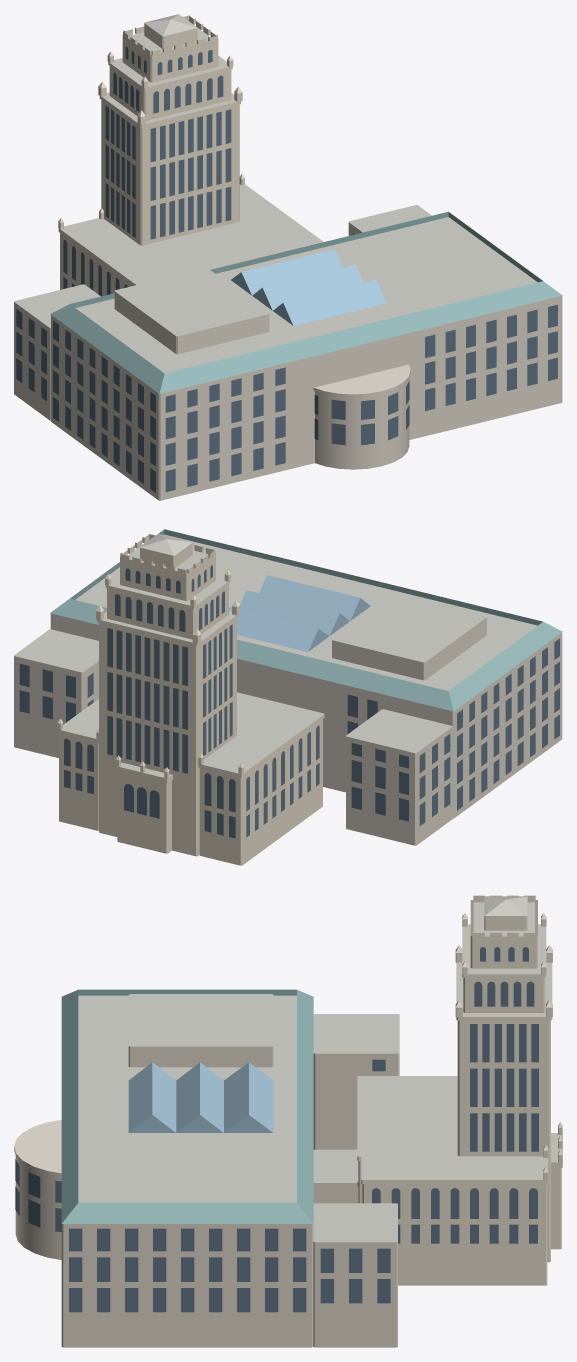
Rendered from atl-city-hall.glb.
The picture shows the model from 3 angles, top to bottom: view 1: azimuth 30°, elevation 25°; view 2: azimuth 150°, elevation 25°; view 3: azimuth 270°, elevation 25°; orthographic projection. The views are drawn at different scales.
Visible parts, largest first — view 1: Atlanta City Hall; view 2: Atlanta City Hall; view 3: Atlanta City Hall.
Boxes of the visible parts, left/top/right/bottom form: Atlanta City Hall: left=14, top=14, right=562, bottom=500; Atlanta City Hall: left=14, top=529, right=562, bottom=865; Atlanta City Hall: left=14, top=895, right=562, bottom=1347.
Size of the model in its own units: 104 by 71.4 by 106.
